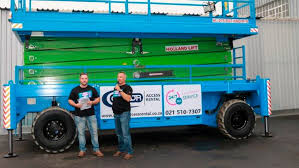Scissor Lift: (2, 1, 273, 160)
